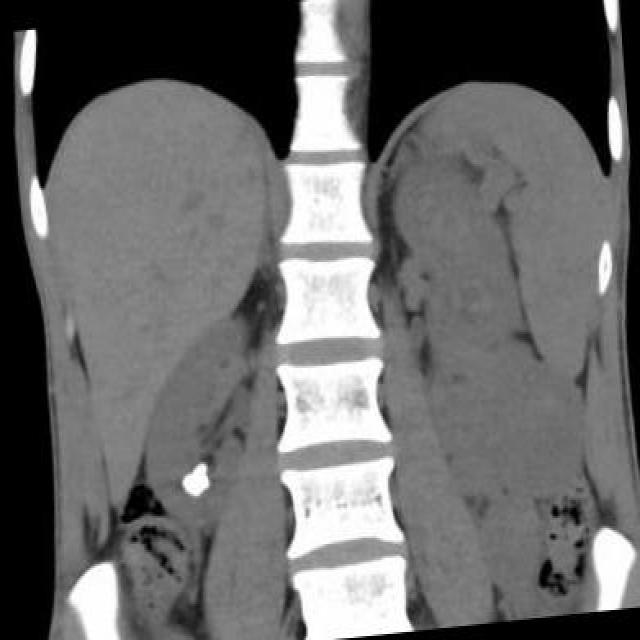Tas_Var: (172, 455, 218, 507)
